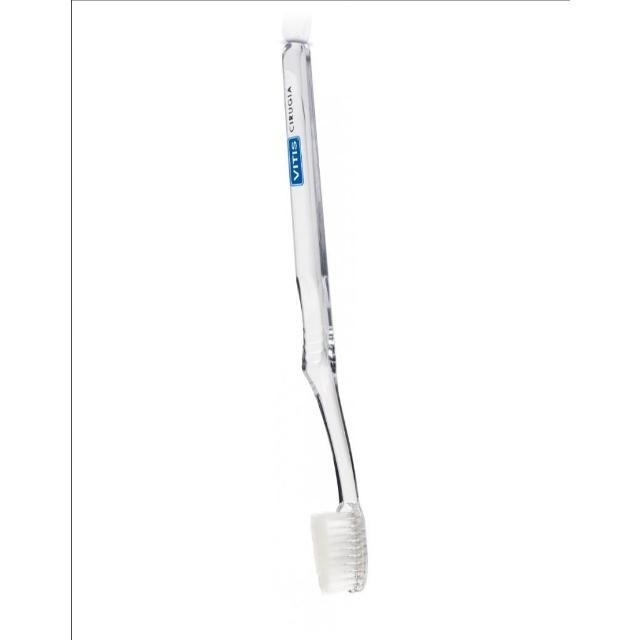toothbrush: (242, 12, 386, 614)
